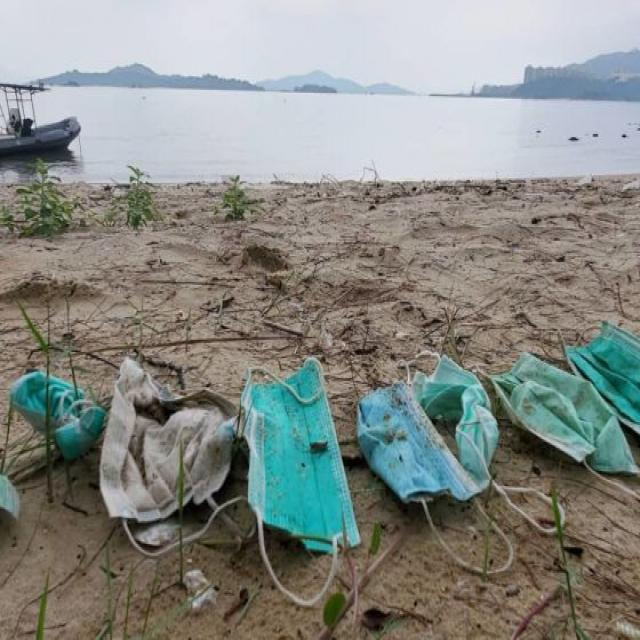non-organic waste: (364, 340, 508, 576), (233, 356, 354, 599), (98, 344, 237, 550), (515, 320, 640, 465), (9, 355, 89, 471)
